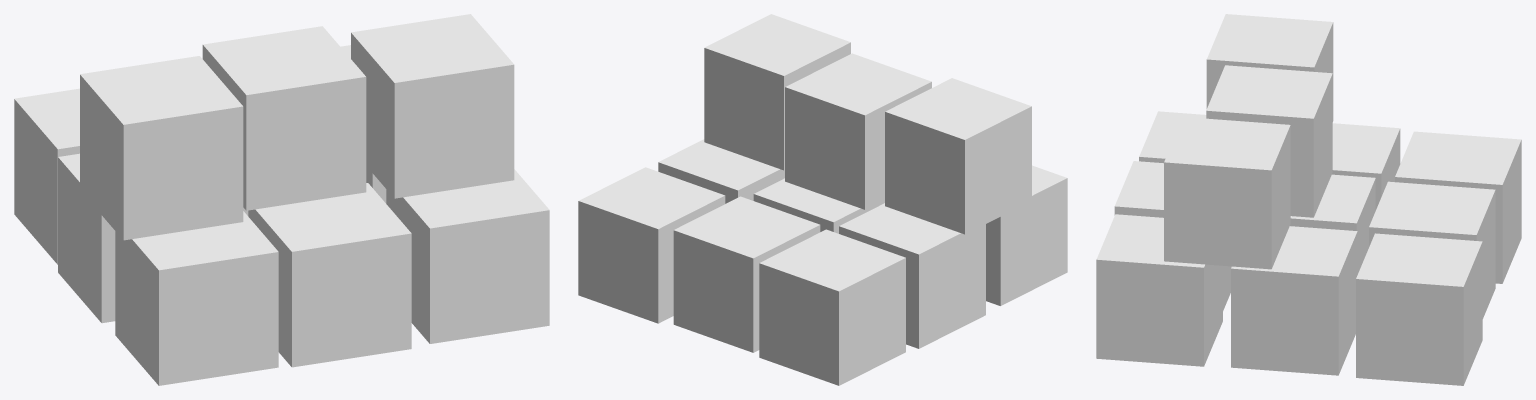
The model's file is material-stack.glb.
The picture shows the model from 3 angles, left to right: view 1: azimuth 30°, elevation 25°; view 2: azimuth 150°, elevation 25°; view 3: azimuth 270°, elevation 25°; orthographic projection. The views are drawn at different scales.
Parts seen in each view (by area): view 1: Big Boxes.003; view 2: Big Boxes.003; view 3: Big Boxes.003.
Boxes of the visible parts, x1,y1,x2,y2 form: Big Boxes.003: (14, 14, 549, 385); Big Boxes.003: (578, 14, 1067, 385); Big Boxes.003: (1096, 14, 1521, 385).
Size of the model in its own units: 3.8 by 2 by 3.89.
1 material, 1 textured.
